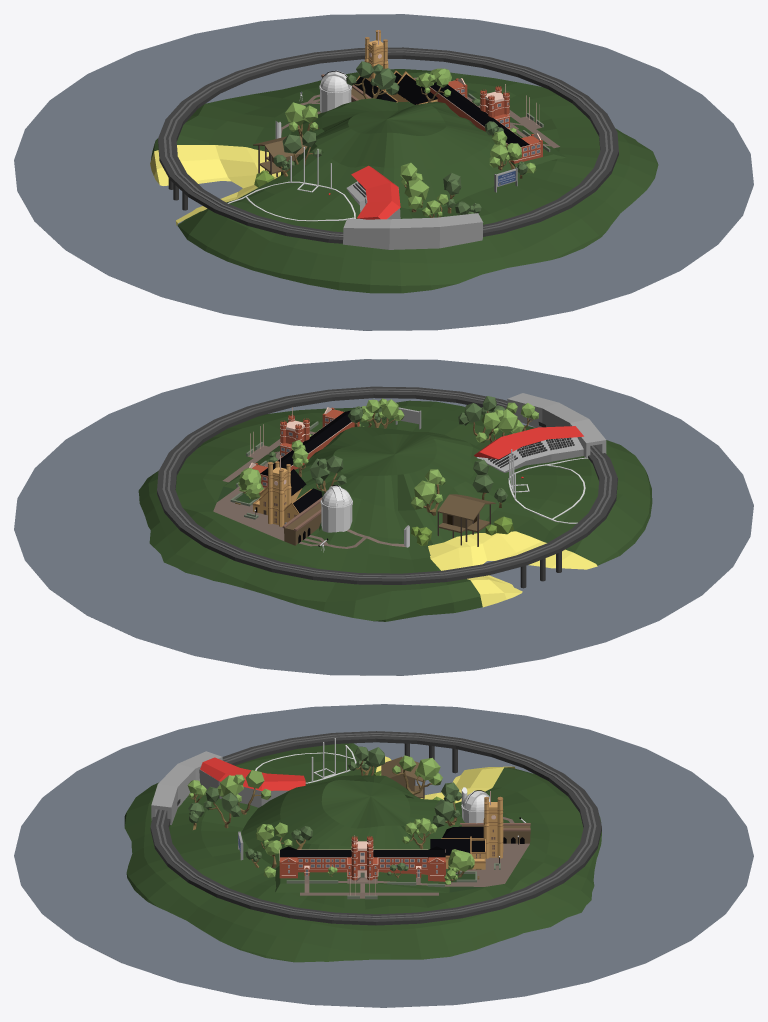
The model's file is Portfolio.glb.
3 views of the same model, one above another, from view 1: azimuth 30°, elevation 25°; view 2: azimuth 150°, elevation 25°; view 3: azimuth 270°, elevation 25° (orthographic). The views are drawn at different scales.
Visible parts, largest first — view 1: Land.001; view 2: Land.001; view 3: Land.001.
Boxes of the visible parts, <box> form: Land.001: <box>14,14,753,330</box>; Land.001: <box>14,359,753,675</box>; Land.001: <box>14,704,753,1007</box>.
Size of the model in its own units: 122 by 25.48 by 126.
Materials: 26 (1 with a texture image).
